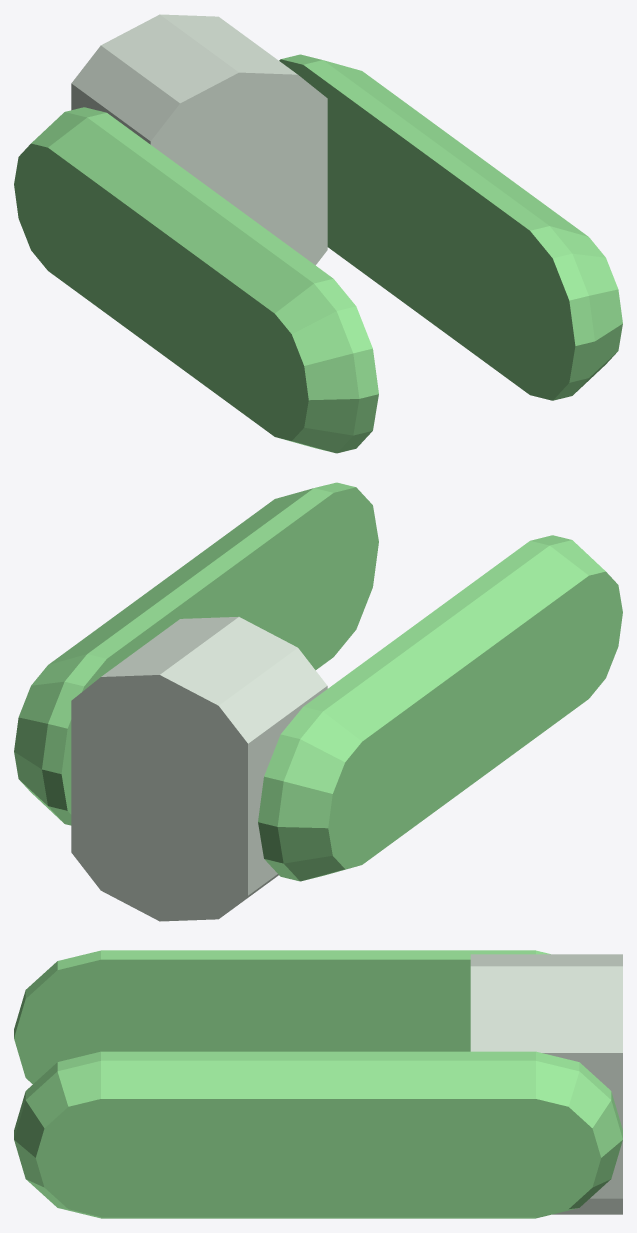
3 views of the same model, one above another, from view 1: azimuth 30°, elevation 25°; view 2: azimuth 150°, elevation 25°; view 3: azimuth 270°, elevation 25° (orthographic). The views are drawn at different scales.
Visible parts, largest first — view 1: J5_LINK (×3); view 2: J5_LINK (×3); view 3: J5_LINK (×3).
Part boxes in pixels (box(x1,y1,x2,y2)): J5_LINK (×3): box(14, 14, 622, 453); J5_LINK (×3): box(14, 482, 622, 921); J5_LINK (×3): box(14, 950, 622, 1218).
Size of the model in its own units: 0.16 by 0.12 by 0.28.
